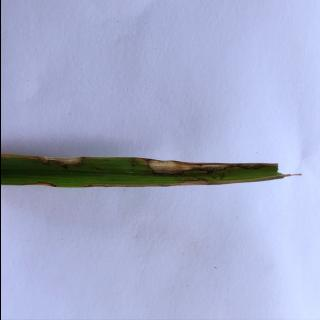Hawar-Daun: (146, 158, 262, 176), (168, 174, 284, 188), (0, 152, 83, 166), (26, 180, 56, 190)
